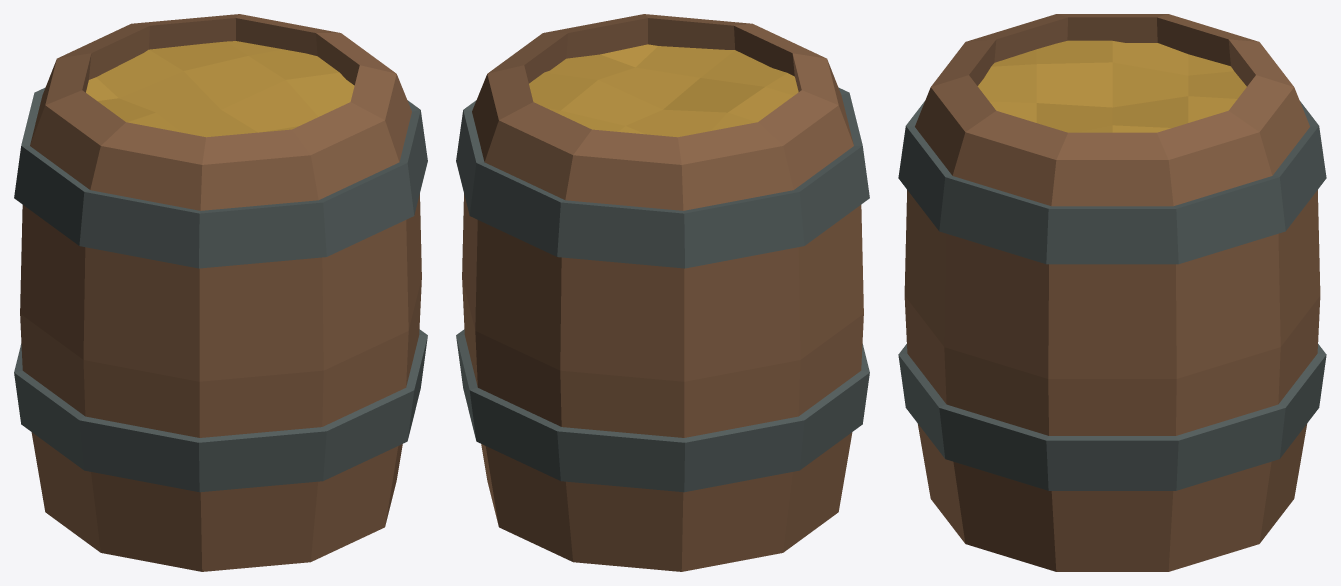
The model's file is Barrel_5_Brown.fbx.
3 views of the same model, side by side, from view 1: azimuth 30°, elevation 25°; view 2: azimuth 150°, elevation 25°; view 3: azimuth 270°, elevation 25° (orthographic).
Parts seen in each view (by area): view 1: Barrel_5_Brown_Part_1, Barrel_5_Brown_Part_2, Barrel_5_Brown_Part_3; view 2: Barrel_5_Brown_Part_1, Barrel_5_Brown_Part_2, Barrel_5_Brown_Part_3; view 3: Barrel_5_Brown_Part_1, Barrel_5_Brown_Part_2, Barrel_5_Brown_Part_3.
Part boxes in pixels (<box>): Barrel_5_Brown_Part_1: <box>20,14,421,571</box>; Barrel_5_Brown_Part_2: <box>14,87,427,492</box>; Barrel_5_Brown_Part_3: <box>86,41,354,137</box>; Barrel_5_Brown_Part_1: <box>462,14,863,571</box>; Barrel_5_Brown_Part_2: <box>456,87,869,492</box>; Barrel_5_Brown_Part_3: <box>529,44,798,137</box>; Barrel_5_Brown_Part_1: <box>904,14,1320,571</box>; Barrel_5_Brown_Part_2: <box>898,101,1326,490</box>; Barrel_5_Brown_Part_3: <box>977,40,1246,132</box>.
Size of the model in its own units: 134 by 154 by 141.
